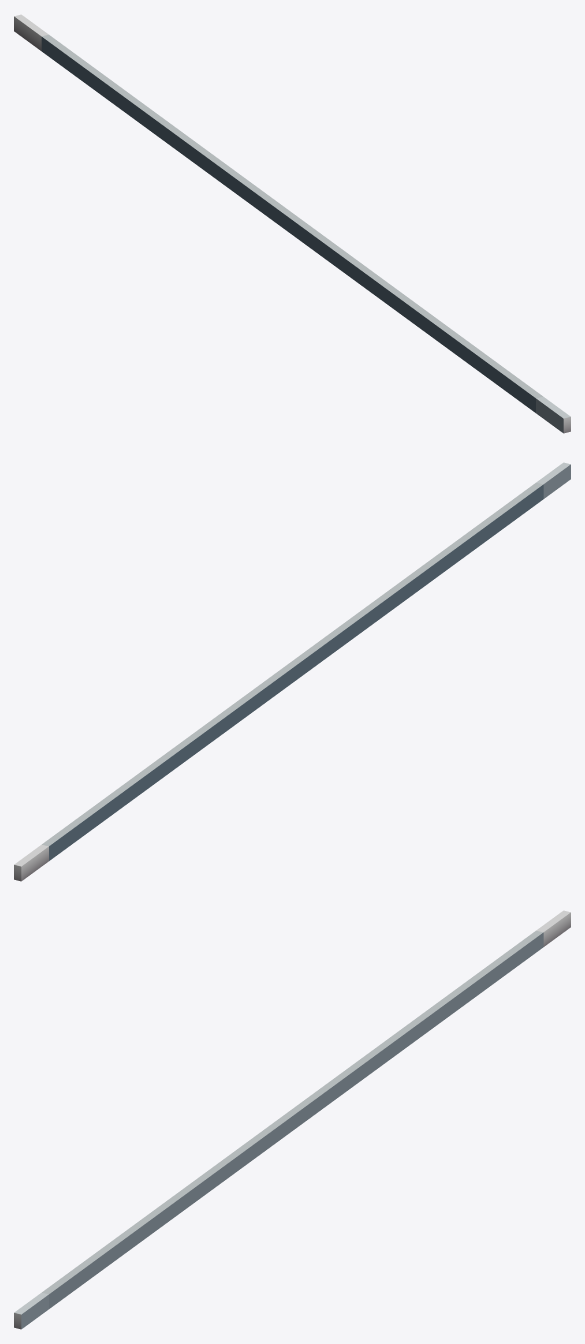
Rendered from Grindrail02.gltf.
3 views of the same model, one above another, from view 1: azimuth 30°, elevation 25°; view 2: azimuth 150°, elevation 25°; view 3: azimuth 330°, elevation 25° (orthographic).
Parts seen in each view (by area): view 1: Grindrail02Mesh; view 2: Grindrail02Mesh; view 3: Grindrail02Mesh.
Boxes of the visible parts, x1,y1,x2,y2 form: Grindrail02Mesh: (14,14,570,433); Grindrail02Mesh: (14,462,570,881); Grindrail02Mesh: (14,910,570,1329).
Size of the model in its own units: 0.1563 by 0.3 by 20.
